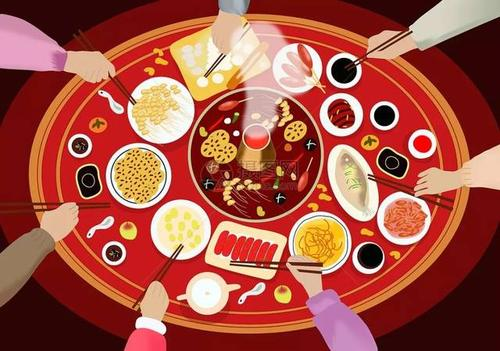buildings: (306, 47, 472, 209)
food: (185, 91, 331, 217), (124, 69, 193, 143), (150, 193, 211, 260), (291, 208, 349, 269), (374, 185, 433, 244)
